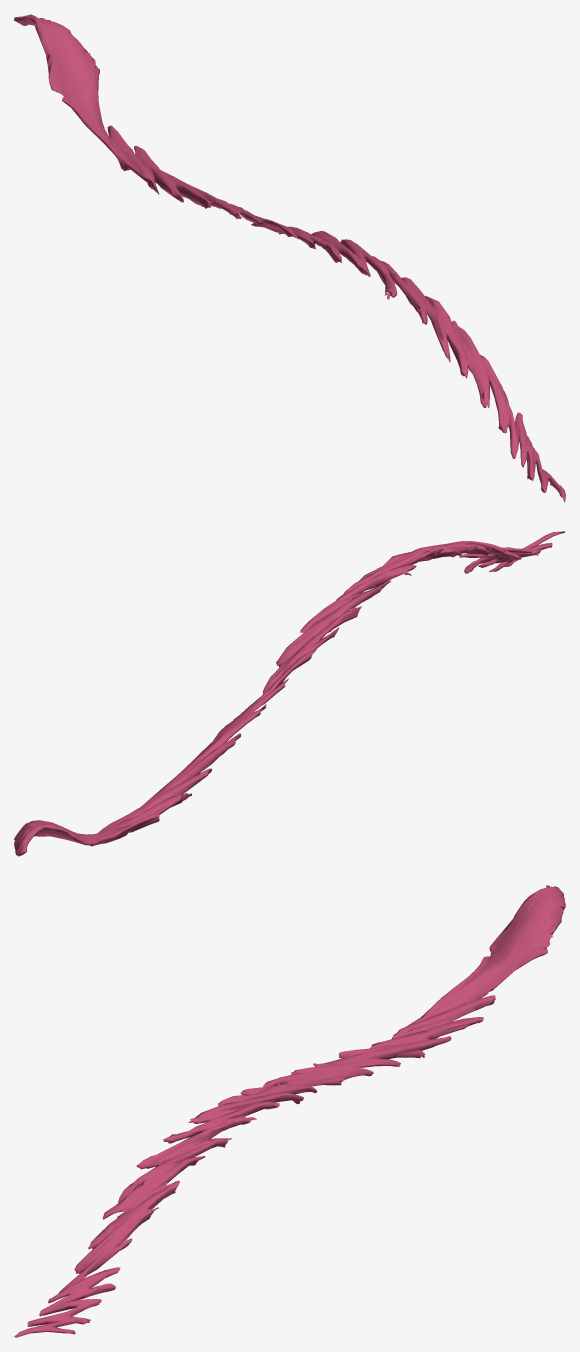
3 renders of one model, top to bottom at view 1: azimuth 30°, elevation 25°; view 2: azimuth 150°, elevation 25°; view 3: azimuth 330°, elevation 25°, orthographic. The views are drawn at different scales.
Visible parts, largest first — view 1: 左侧回旋肌; view 2: 左侧回旋肌; view 3: 左侧回旋肌.
Part boxes in pixels (box(x1,y1,x2,y2)): 左侧回旋肌: box(14, 14, 565, 502); 左侧回旋肌: box(14, 531, 565, 856); 左侧回旋肌: box(14, 885, 565, 1337).
Size of the model in its own units: 0.0562 by 0.0979 by 0.9362.
